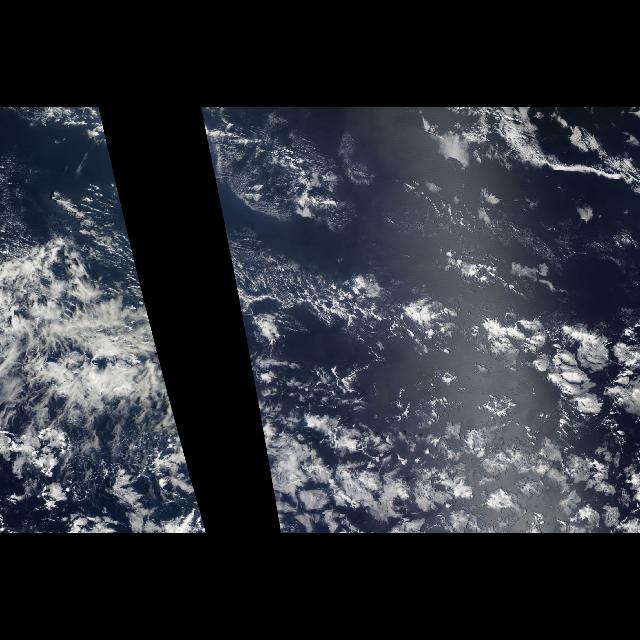Flower: (281, 308, 634, 532)
Sugar: (230, 120, 474, 364)
